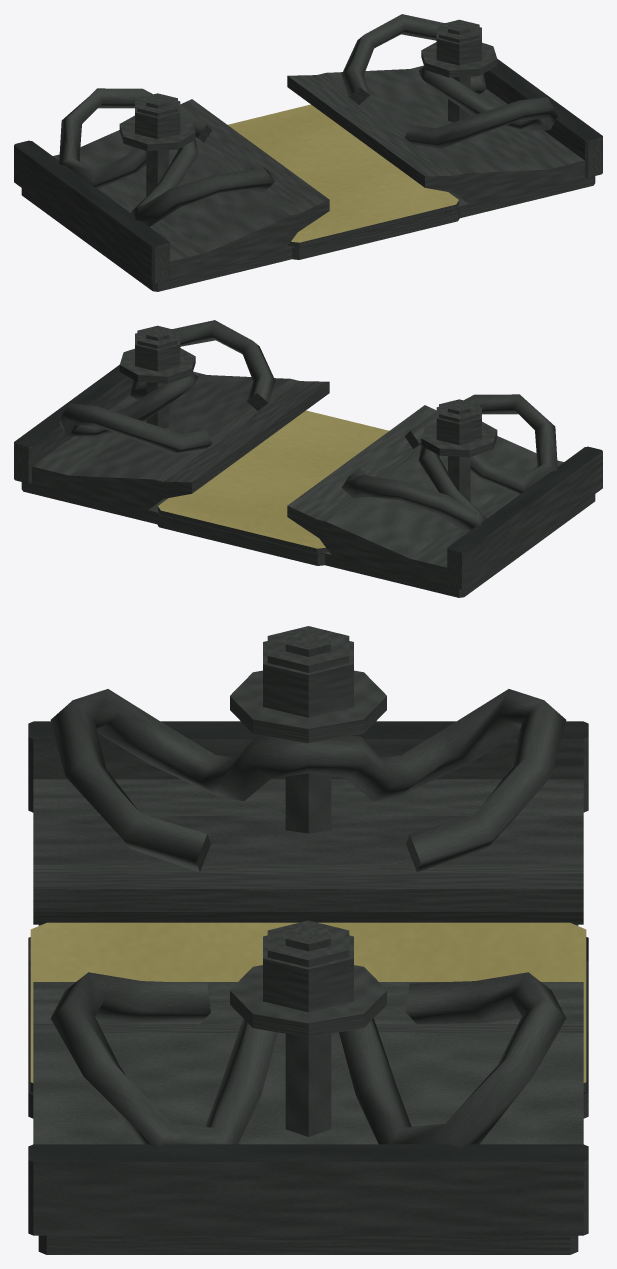
File: fastener.obj
3 views of the same model, one above another, from view 1: azimuth 30°, elevation 25°; view 2: azimuth 150°, elevation 25°; view 3: azimuth 270°, elevation 25° (orthographic). The views are drawn at different scales.
Parts seen in each view (by area): view 1: fastener; view 2: fastener; view 3: fastener.
Part boxes in pixels (left/top/right/bottom): fastener: left=14, top=14, right=602, bottom=291; fastener: left=14, top=320, right=602, bottom=597; fastener: left=28, top=626, right=588, bottom=1254.
Bounding box in the file's own units: 0.398 × 0.1066 × 0.214.
